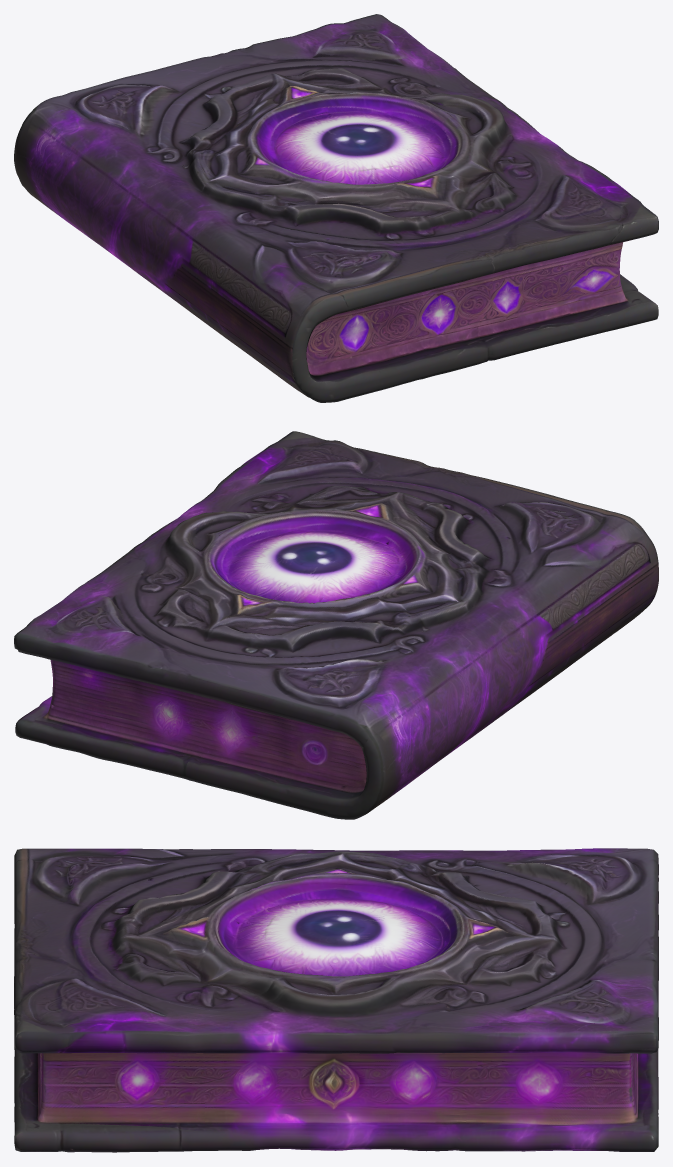
File: Stylized_magical_book_0613135018_texture.fbx
3 views of the same model, one above another, from view 1: azimuth 30°, elevation 25°; view 2: azimuth 150°, elevation 25°; view 3: azimuth 270°, elevation 25° (orthographic). The views are drawn at different scales.
Parts seen in each view (by area): view 1: input; view 2: input; view 3: input.
Boxes of the visible parts, x1=… form: input: x1=14, y1=14, x2=658, y2=402; input: x1=14, y1=431, x2=658, y2=819; input: x1=14, y1=848, x2=658, y2=1152.
Size of the model in its own units: 154 by 49.29 by 200.
1 material, 1 textured.
